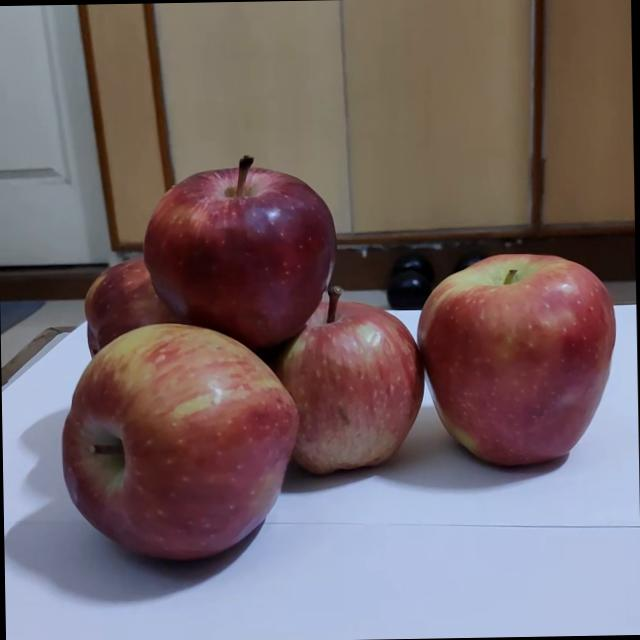apple: (56, 346, 310, 602), (397, 242, 640, 500), (132, 157, 352, 381), (255, 301, 438, 504), (56, 270, 251, 412)
